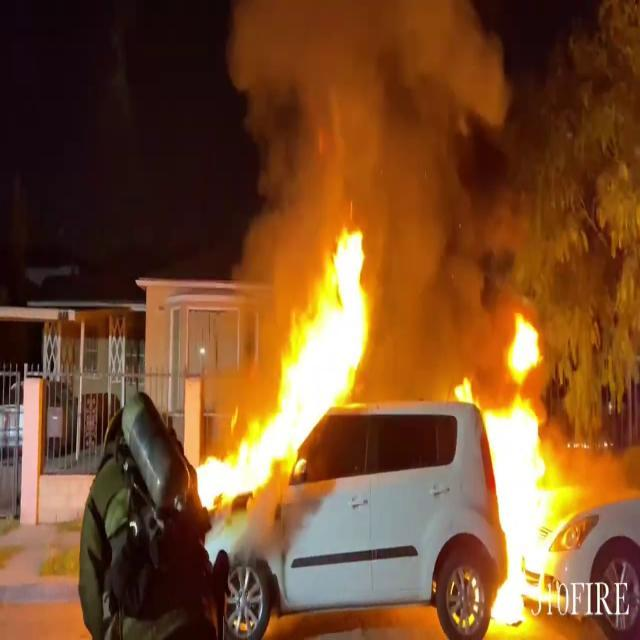Fire: (196, 217, 384, 507), (463, 308, 567, 630)
Smoke: (218, 0, 536, 235)
